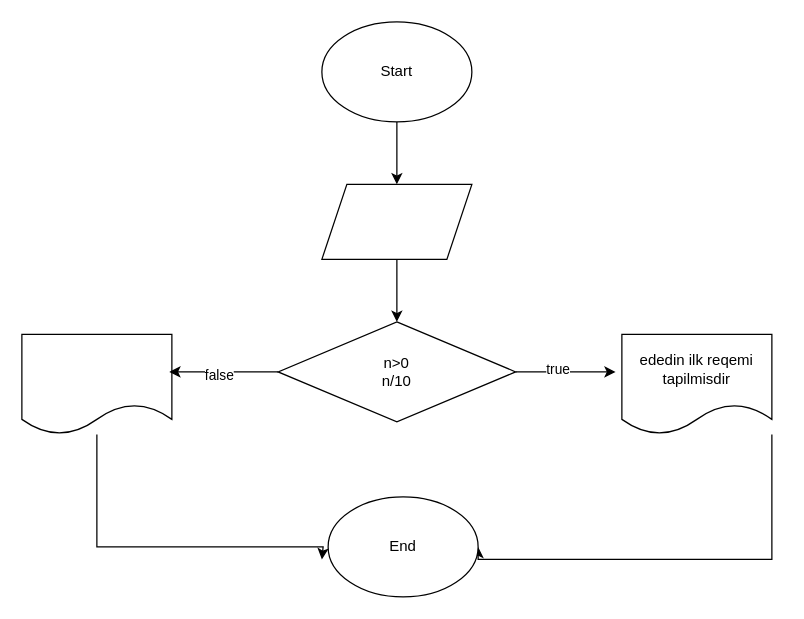
Some shapes in this 804 by 619 pixel diagram are drawn without their labels. The shapes that lost their labels are listed below. From the top down, each one's centre as x and y in pixels, then its label:
(396,221): n,figure,digit
(96,383): ededin ilk reqemi tapilmamisdir
